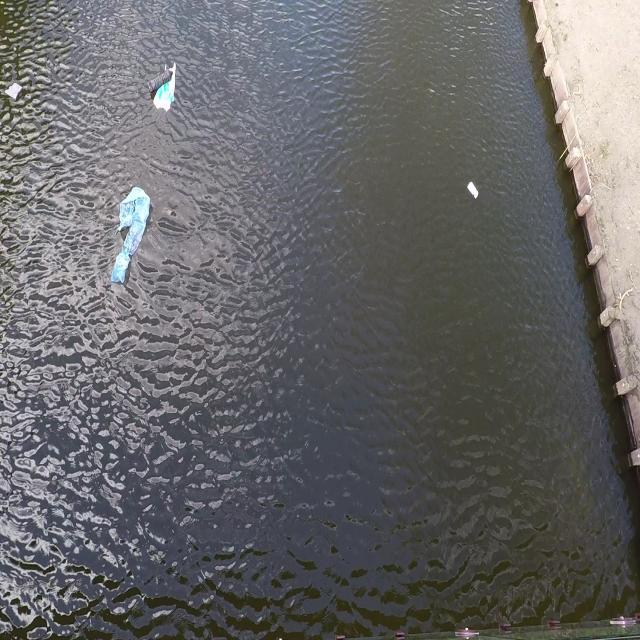Bouteille plastique: (143, 69, 172, 94)
Sac plastique: (106, 183, 152, 289)
